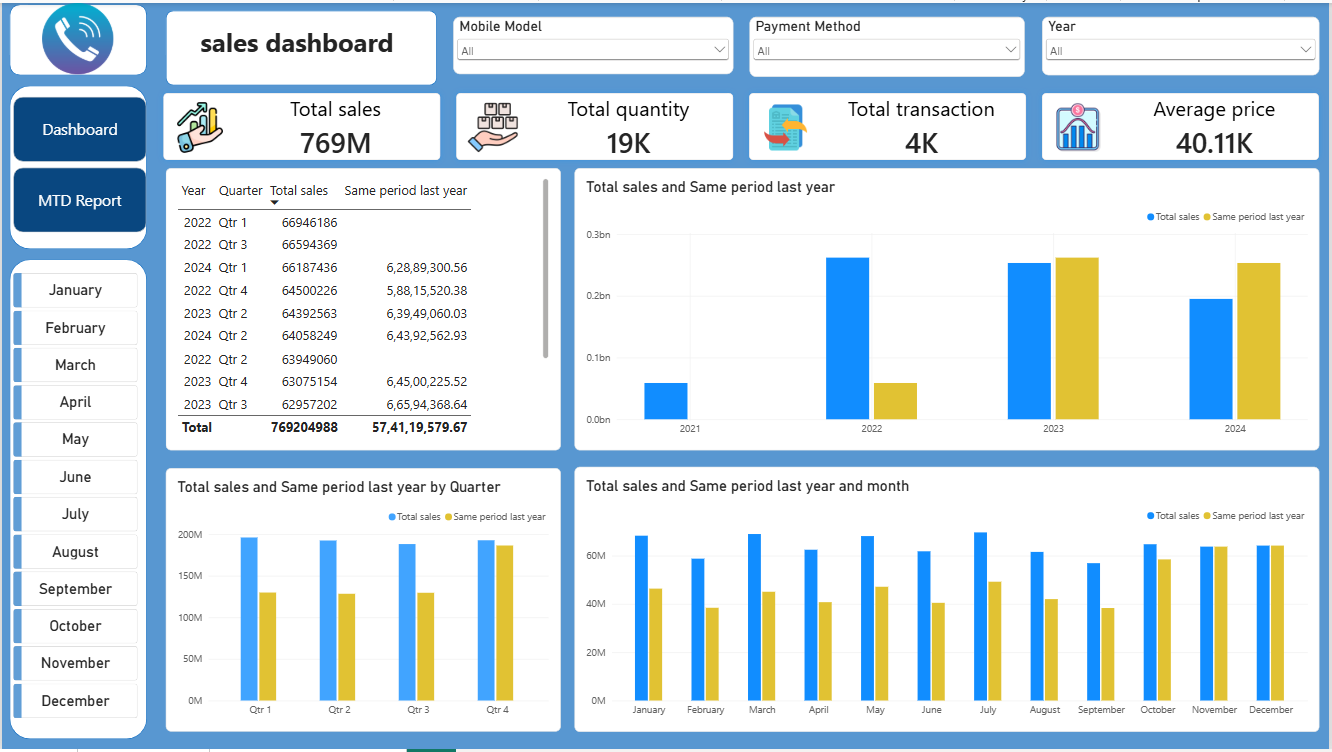

Layout of this report page (visuals, bound fields, positions):
{"tool":"powerbi","page":{"name":"Same period last year","canvas":[1920,1080],"ordinal":2},"visuals":[{"type":"shape","box":[10.9,1.8,199.1,103.2],"z":0},{"type":"shape","box":[10.9,119.4,199.1,237.1],"z":1000},{"type":"shape","box":[10.9,371,199.1,694.9],"z":2000},{"type":"image","box":[38,0,143,103.2],"z":3000},{"type":"advancedSlicerVisual","fields":{"Values":["custome calender.date.Variation.Date Hierarchy.Month"]},"box":[16.3,371,181,694.9],"z":4000},{"type":"cardVisual","fields":{"Data":["sales data.Total sales","sales data.total quantity","sales data.total transaction","sales data.average price"]},"box":[222.6,119.4,1697.5,119.4],"z":5000},{"type":"slicer","fields":{"Values":["custome calender.date.Variation.Date Hierarchy.Year"]},"box":[1505.6,19.9,401.7,85.1],"z":6000},{"type":"slicer","fields":{"Values":["sales data.Payment Method"]},"box":[1082.2,19.9,398.1,86.9],"z":7000},{"type":"slicer","fields":{"Values":["sales data.Mobile Model"]},"box":[653.3,19.9,405.4,83.2],"z":8000},{"type":"shape","box":[237.1,10.9,392.7,108.6],"z":9000},{"type":"textbox","box":[266,30.8,322.1,67],"z":10000},{"type":"tableEx","fields":{"Values":["custome calender.date.Variation.Date Hierarchy.Year","custome calender.date.Variation.Date Hierarchy.Quarter","sales data.Total sales","sales data.Same period last year"]},"box":[237.1,238.9,571.9,409],"z":11000},{"type":"clusteredColumnChart","title":"Total sales and Same period  last year ","fields":{"Category":["custome calender.date.Variation.Date Hierarchy.Year"],"Y":["sales data.Total sales","sales data.Same period last year"]},"box":[828.8,238.9,1078.6,409],"z":12000},{"type":"clusteredColumnChart","title":"Total sales and Same period last year by Quarter","fields":{"Category":["custome calender.date.Variation.Date Hierarchy.Quarter"],"Y":["sales data.Total sales","sales data.Same period last year"]},"box":[237.1,673.2,571.9,381.8],"z":12001},{"type":"clusteredColumnChart","title":"Total sales and Same period last year and month","fields":{"Category":["custome calender.date.Variation.Date Hierarchy.Month"],"Y":["sales data.Total sales","sales data.Same period last year"]},"box":[828.8,671.4,1078.6,383.6],"z":12002},{"type":"pageNavigator","box":[16.3,135.7,193.6,197.3],"z":12003}]}

Visuals, with their boxes in screenshot pixels (x1, y1, x2, y2), scaled from the page's 1920x1080 canvas onto the 1332x752 screenshot:
shape: box(8, 1, 146, 73)
shape: box(8, 83, 146, 248)
shape: box(8, 258, 146, 742)
image: box(26, 0, 126, 72)
advancedSlicerVisual - custome calender.date.Variation.Date Hierarchy.Month: box(11, 258, 137, 742)
cardVisual - sales data.Total sales x sales data.total quantity: box(154, 83, 1331, 166)
slicer - custome calender.date.Variation.Date Hierarchy.Year: box(1045, 14, 1323, 73)
slicer - sales data.Payment Method: box(751, 14, 1027, 74)
slicer - sales data.Mobile Model: box(453, 14, 734, 72)
shape: box(164, 8, 437, 83)
textbox: box(185, 21, 408, 68)
tableEx - custome calender.date.Variation.Date Hierarchy.Year x custome calender.date.Variation.Date Hierarchy.Quarter: box(164, 166, 561, 451)
"Total sales and Same period  last year " clusteredColumnChart: box(575, 166, 1323, 451)
"Total sales and Same period last year by Quarter" clusteredColumnChart: box(164, 469, 561, 735)
"Total sales and Same period last year and month" clusteredColumnChart: box(575, 467, 1323, 735)
pageNavigator: box(11, 94, 146, 232)
